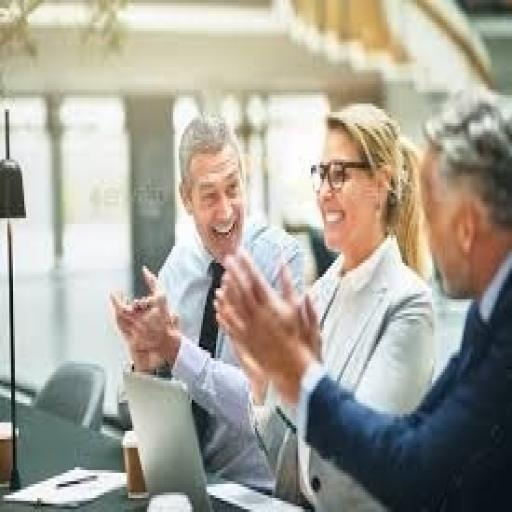clapping: (212, 87, 510, 509), (192, 59, 462, 512), (102, 97, 268, 512)
